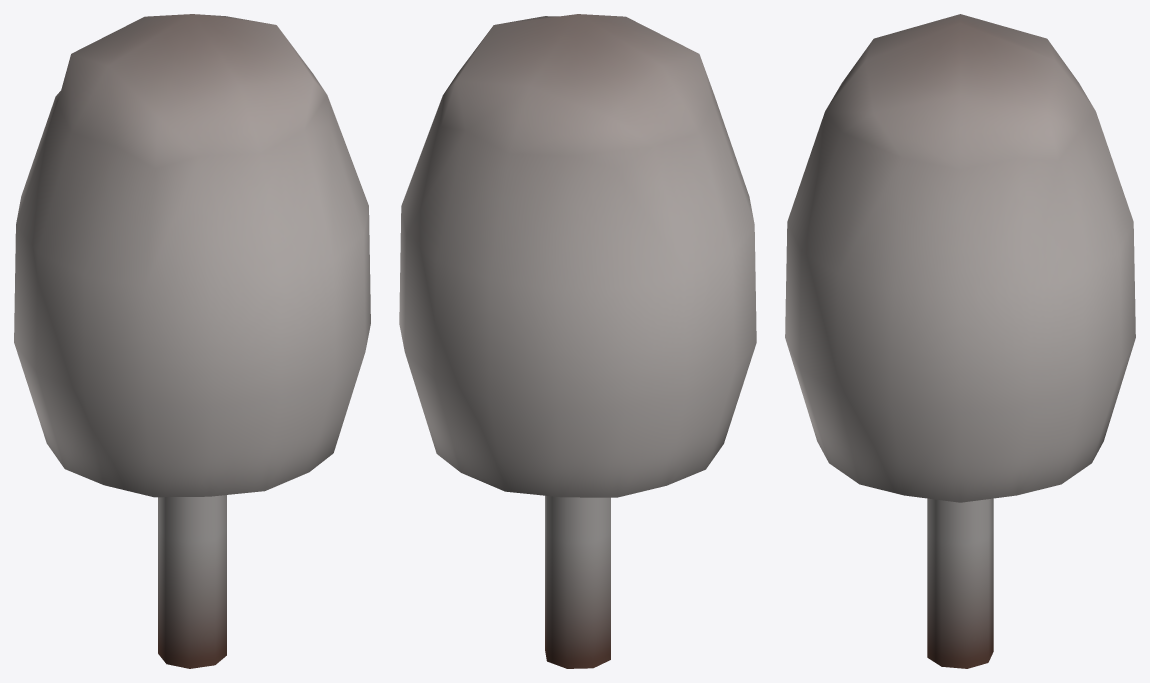
File: Inky_Cap_Small.fbx
The picture shows the model from 3 angles, left to right: view 1: azimuth 30°, elevation 25°; view 2: azimuth 150°, elevation 25°; view 3: azimuth 270°, elevation 25°; orthographic projection.
Parts seen in each view (by area): view 1: Inky_Cap_Small; view 2: Inky_Cap_Small; view 3: Inky_Cap_Small.
Part boxes in pixels (x1,y1,x2,y2): Inky_Cap_Small: [14, 14, 370, 668]; Inky_Cap_Small: [399, 14, 756, 668]; Inky_Cap_Small: [785, 14, 1135, 668].
Size of the model in its own units: 4.25 by 8.32 by 4.19.
